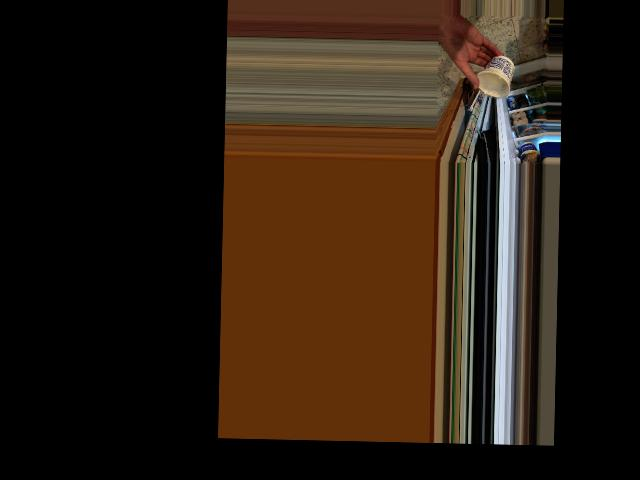cotage: (478, 53, 511, 98)
